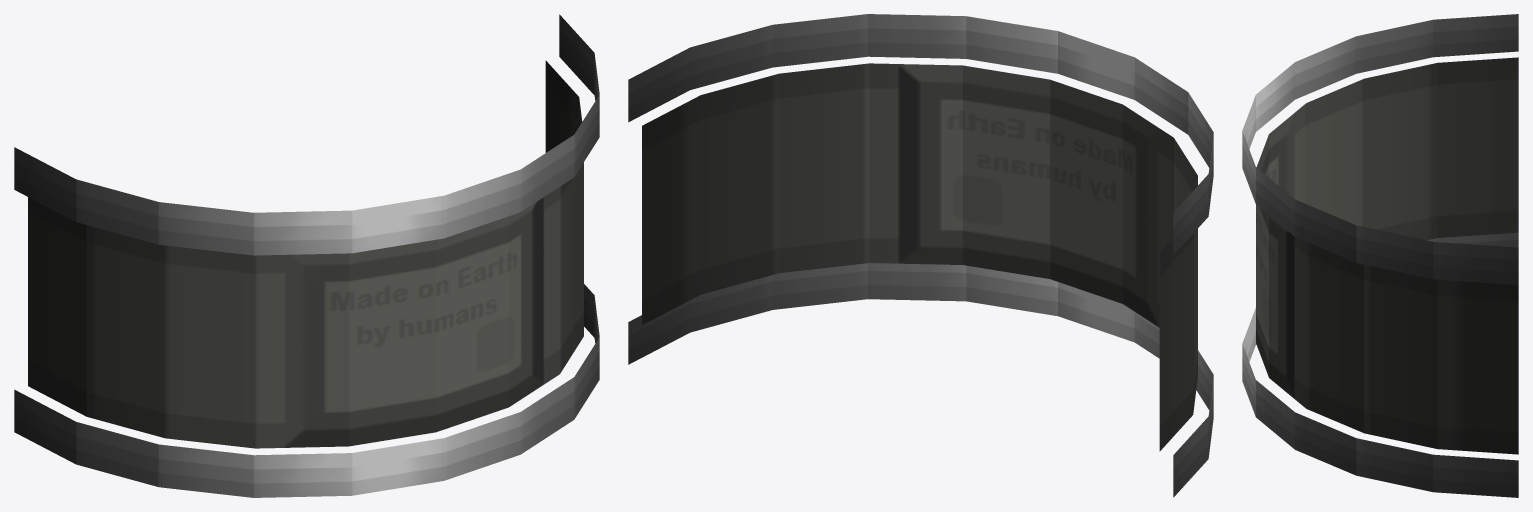
3 views of the same model, side by side, from view 1: azimuth 30°, elevation 25°; view 2: azimuth 150°, elevation 25°; view 3: azimuth 270°, elevation 25° (orthographic). The views are drawn at different scales.
Parts seen in each view (by area): view 1: model; view 2: model; view 3: model.
Boxes of the visible parts, x1,y1,x2,y2 form: model: (14, 14, 599, 497); model: (628, 14, 1213, 497); model: (1242, 14, 1518, 497).
Size of the model in its own units: 2 by 1 by 1.
1 material, 1 textured.
